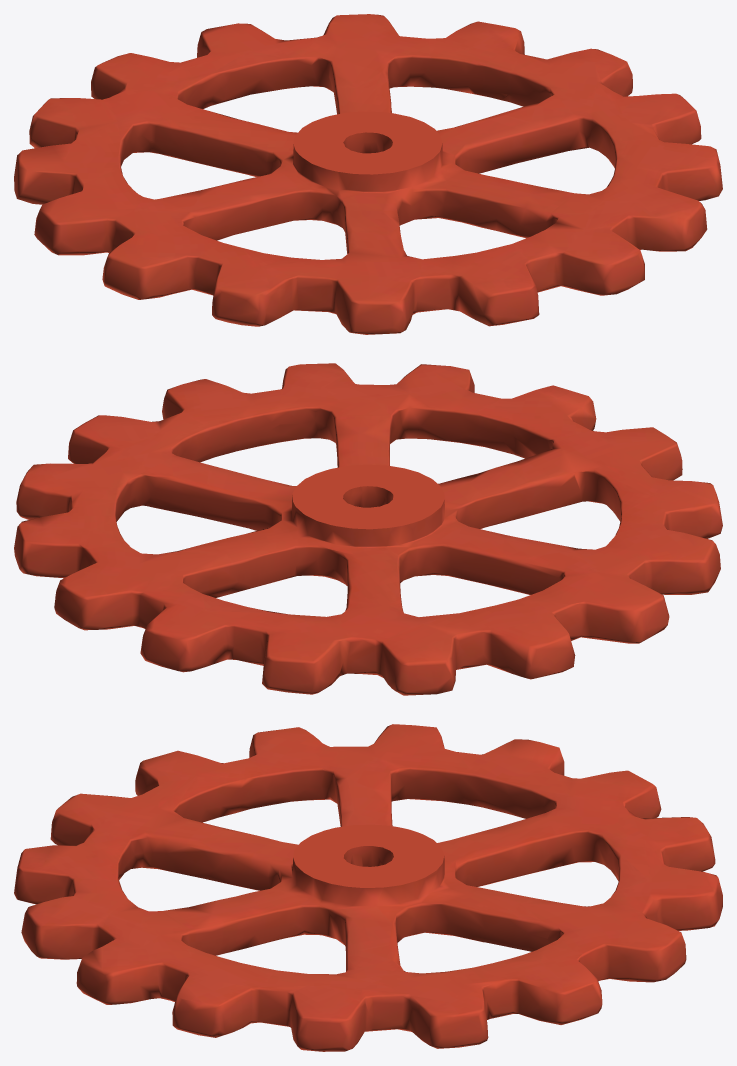
File: factory-gear-big.glb
3 renders of one model, top to bottom at view 1: azimuth 30°, elevation 25°; view 2: azimuth 150°, elevation 25°; view 3: azimuth 270°, elevation 25°, orthographic. The views are drawn at different scales.
Visible parts, largest first — view 1: gear; view 2: gear; view 3: gear.
Boxes of the visible parts, bbox=[...] form: gear: bbox=[14, 14, 722, 334]; gear: bbox=[14, 363, 722, 695]; gear: bbox=[14, 724, 722, 1051].
Size of the model in its own units: 1.98 by 0.1508 by 1.97.
Materials: 1 (1 with a texture image).
